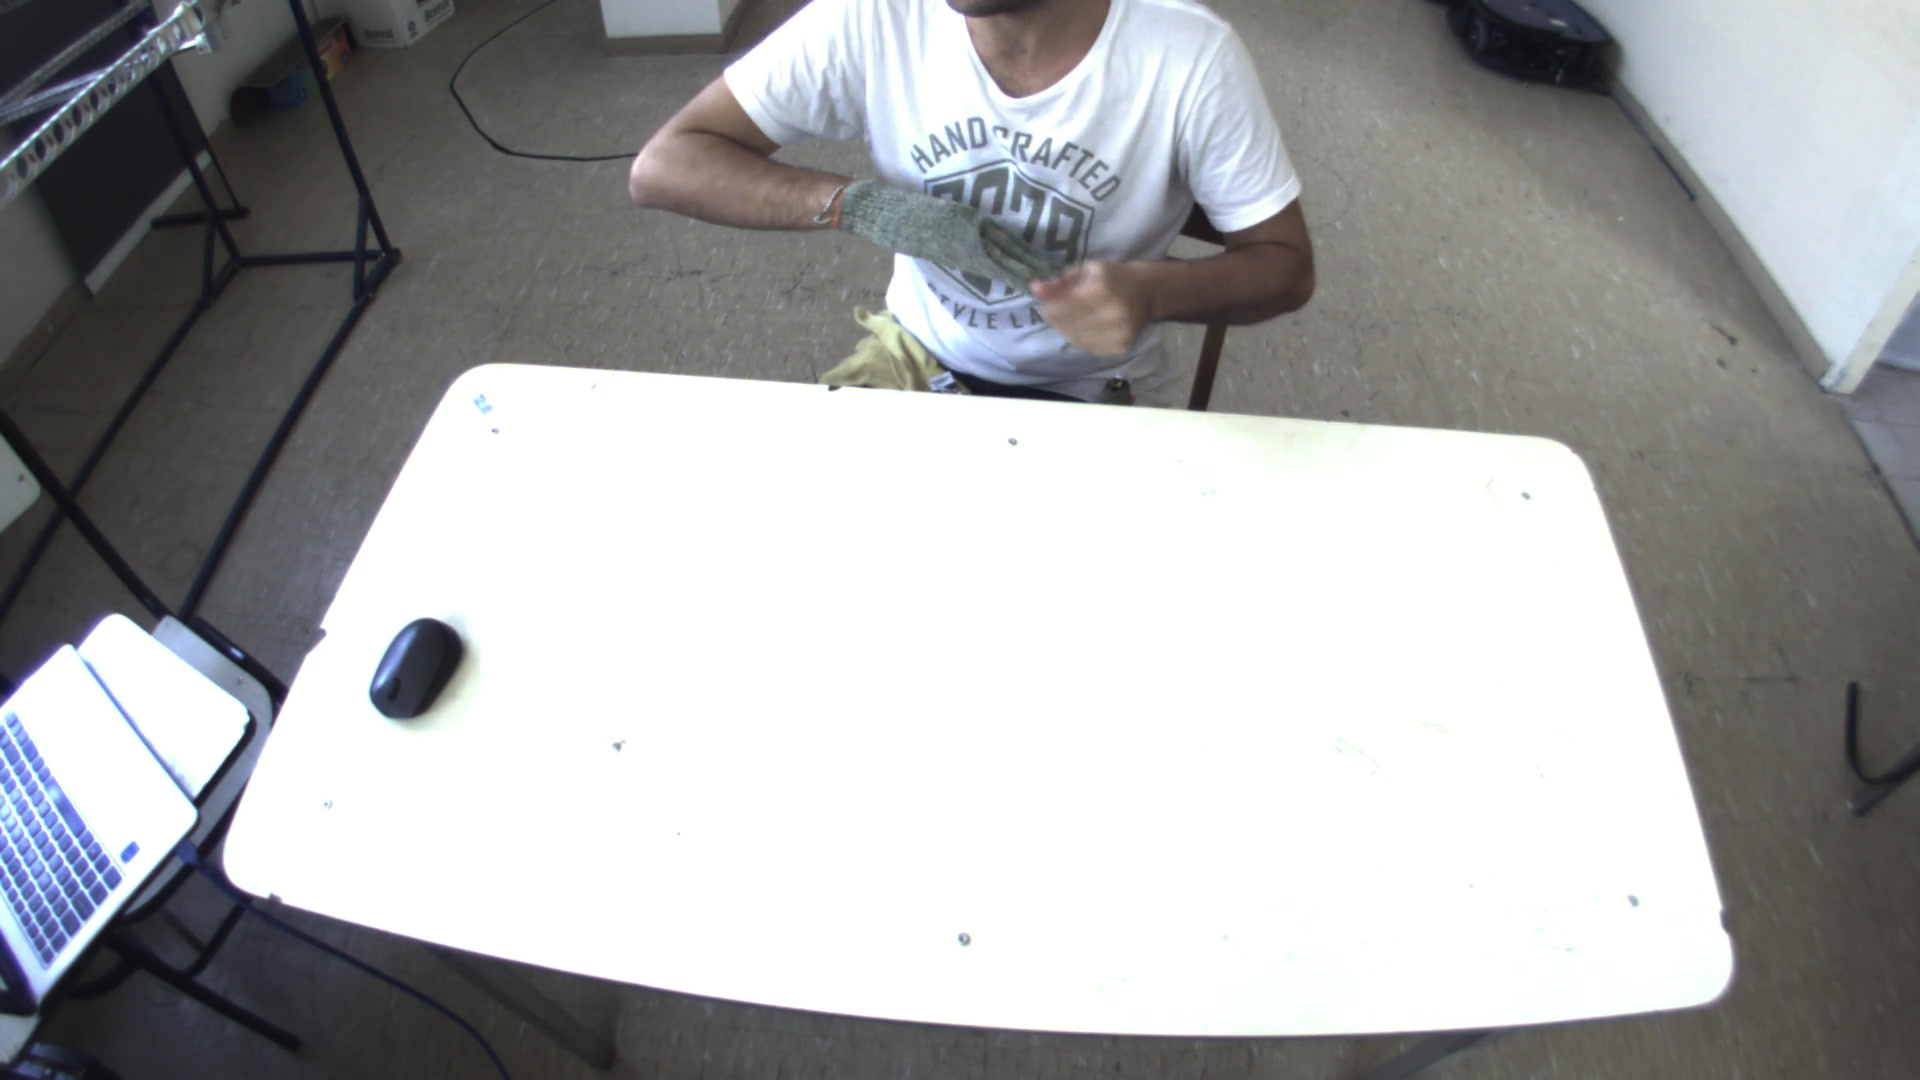hand: (808, 169, 1034, 269), (1021, 252, 1168, 357)
